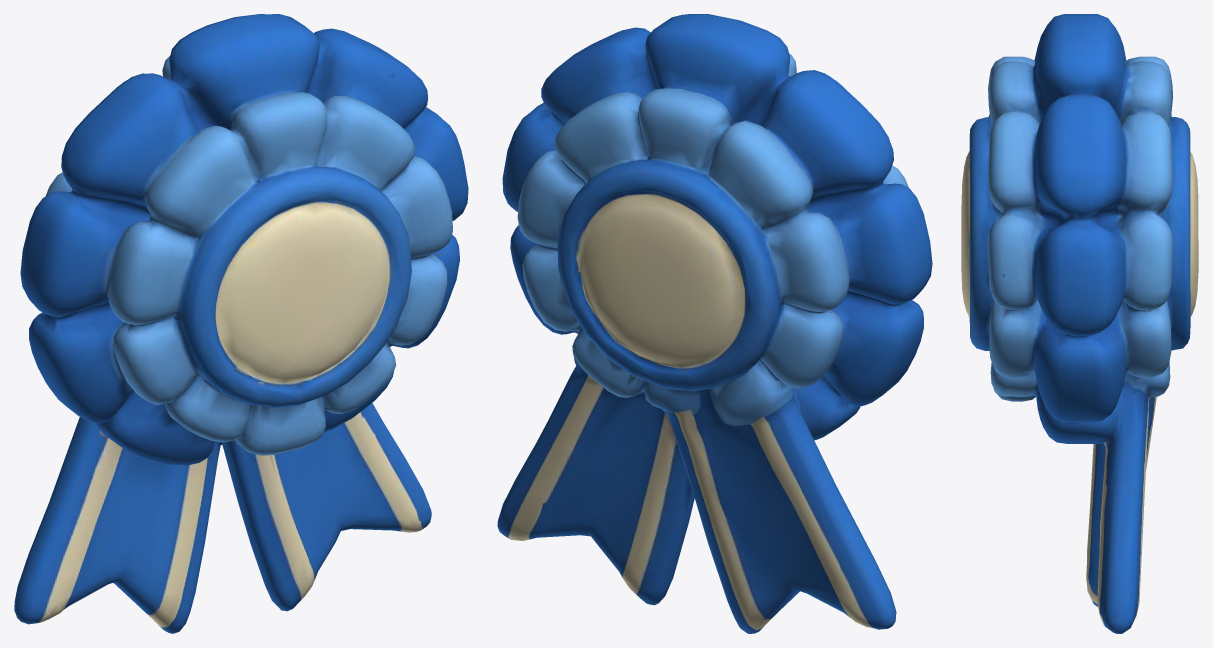
3 renders of one model, left to right at view 1: azimuth 30°, elevation 25°; view 2: azimuth 150°, elevation 25°; view 3: azimuth 270°, elevation 25°, orthographic. The views are drawn at different scales.
Visible parts, largest first — view 1: rosette; view 2: rosette; view 3: rosette.
Part boxes in pixels (bbox=[...]): rosette: bbox=[14, 14, 468, 633]; rosette: bbox=[497, 14, 932, 633]; rosette: bbox=[961, 14, 1198, 633].
Bounding box in the file's own units: 0.1831 × 0.25 × 0.0967.
Materials: 1 (1 with a texture image).
